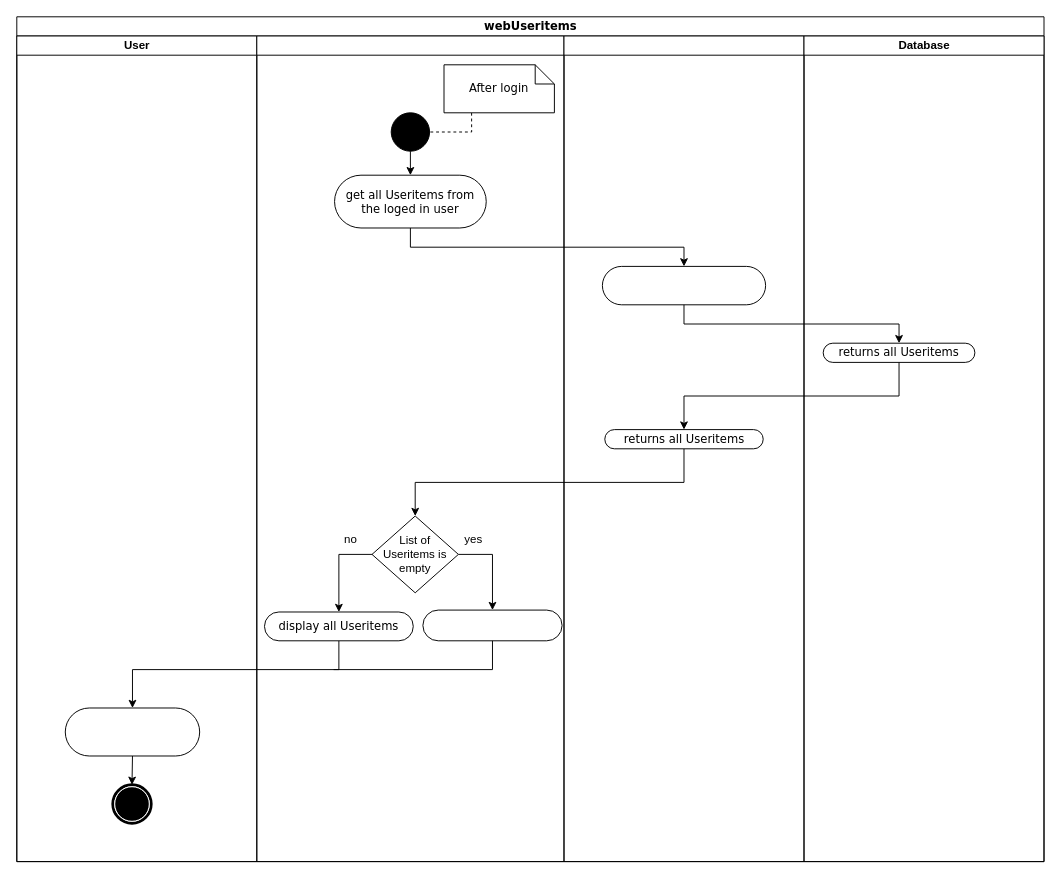
This 1061x878 diagram has some shape labels left out. Each missing label, with the box of its shape:
API: (563, 35, 804, 862)
Application: (256, 35, 564, 862)
display placeholder "no Useritems": (422, 609, 562, 641)
get all Useritems from database: (601, 265, 766, 305)
User now sees all of his Useritems: (64, 707, 200, 756)
